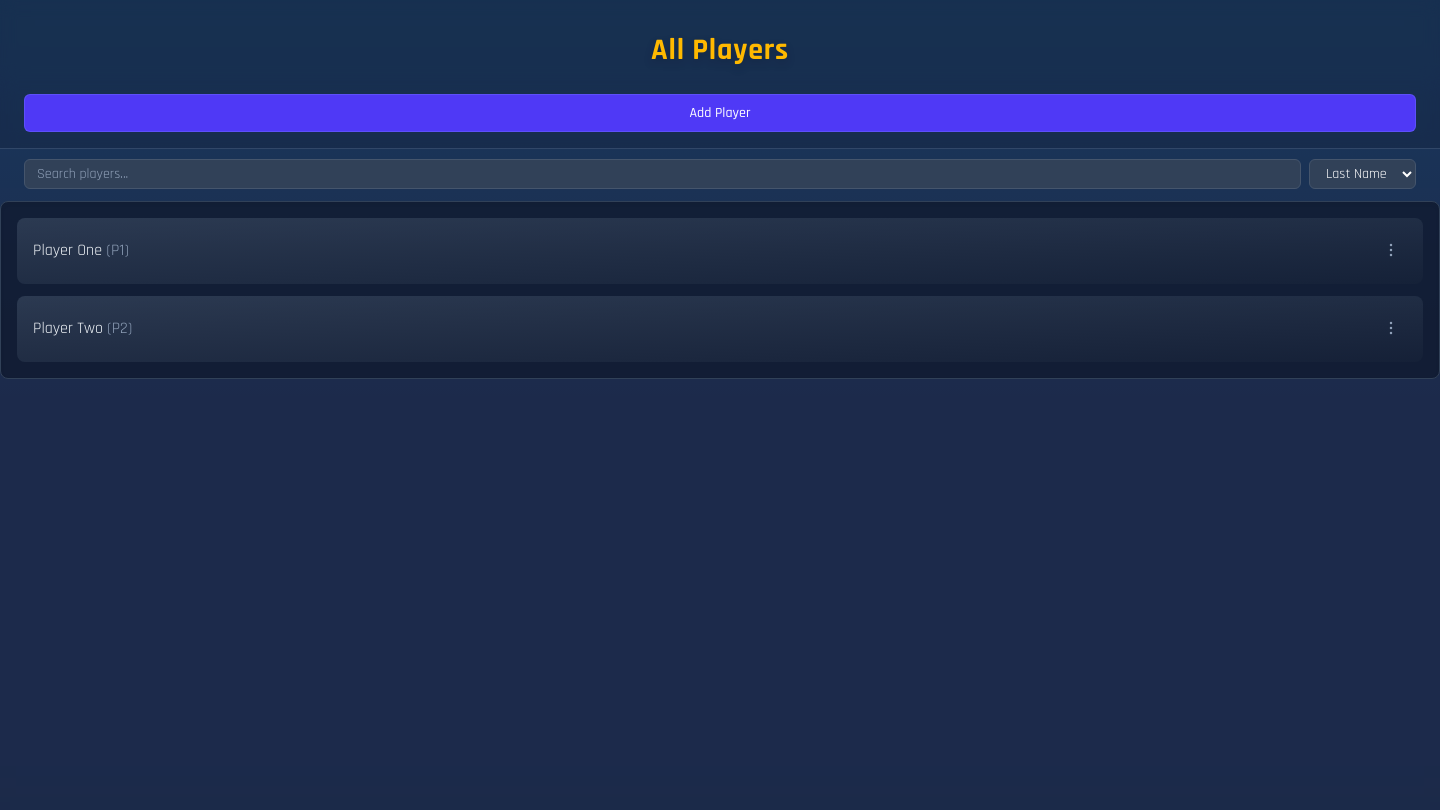
Test case: <RosterSettingsModal /> › shows add player form when Add Player button is clicked
Click the button "Add Player": (720, 112) [24,94,1416,132]
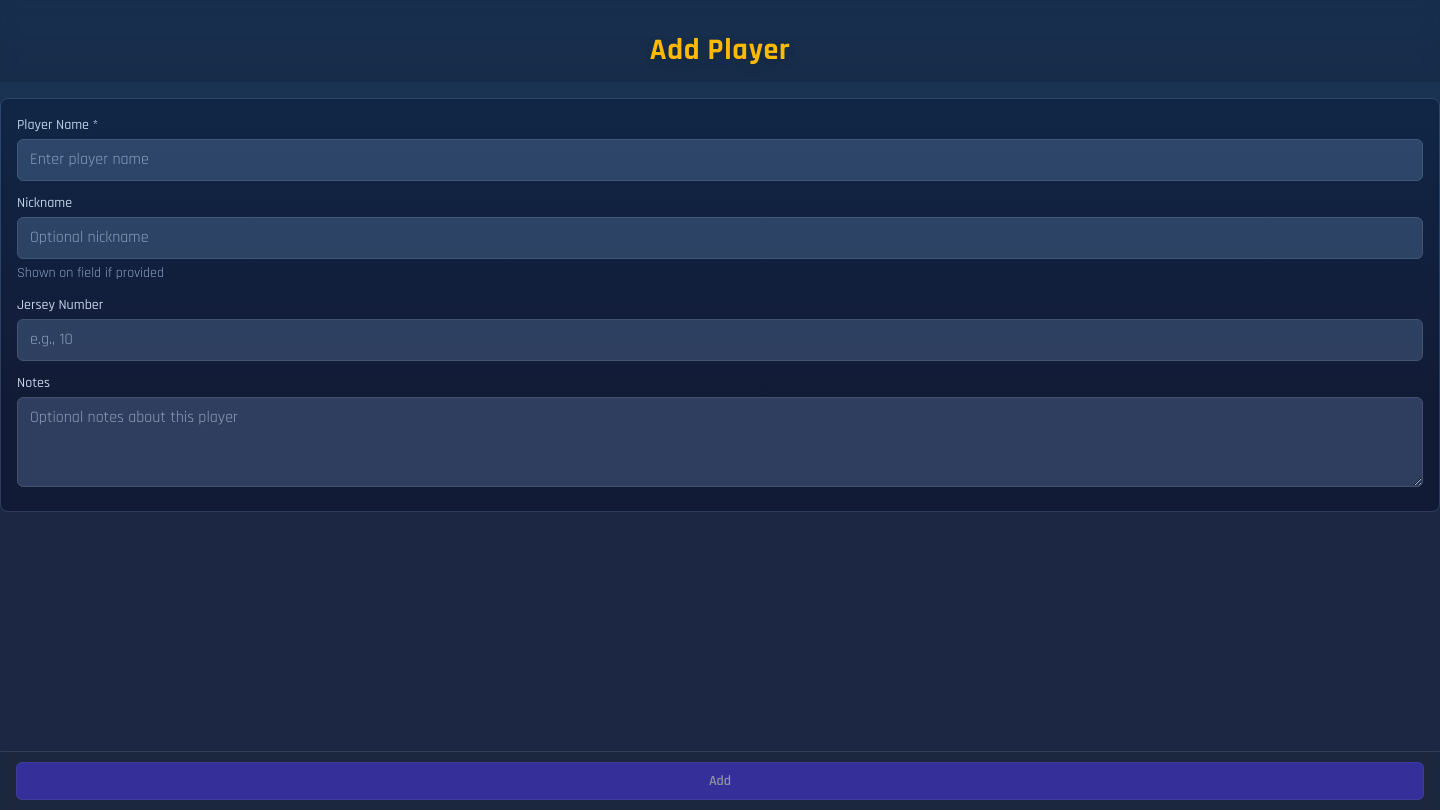
Expected: the field with placeholder "Enter player name" is shown, [17,138,1423,180]
